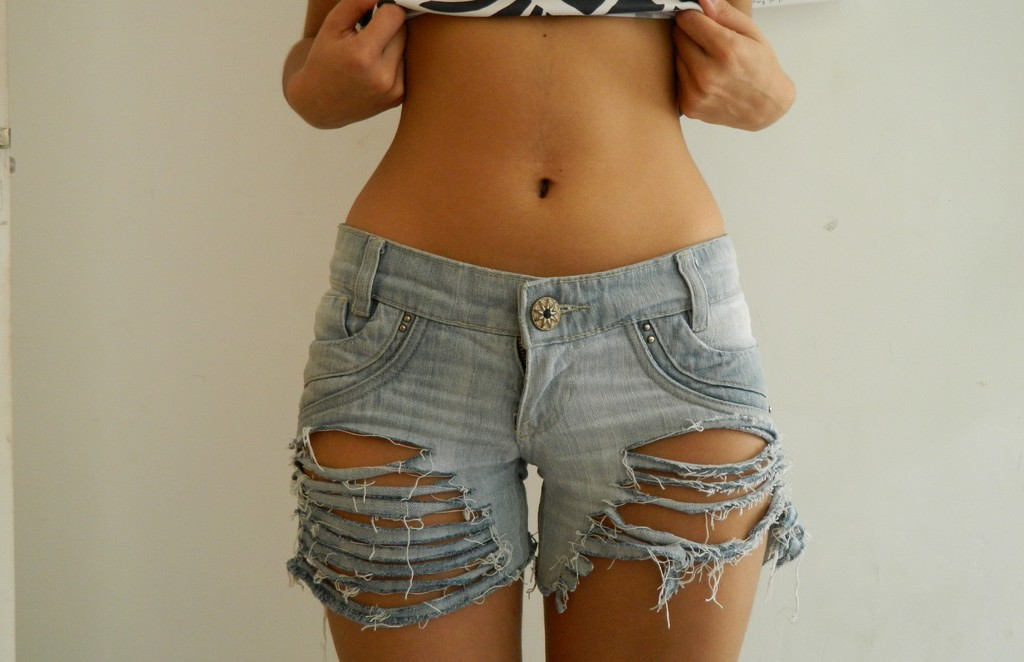Person: (281, 0, 811, 661)
